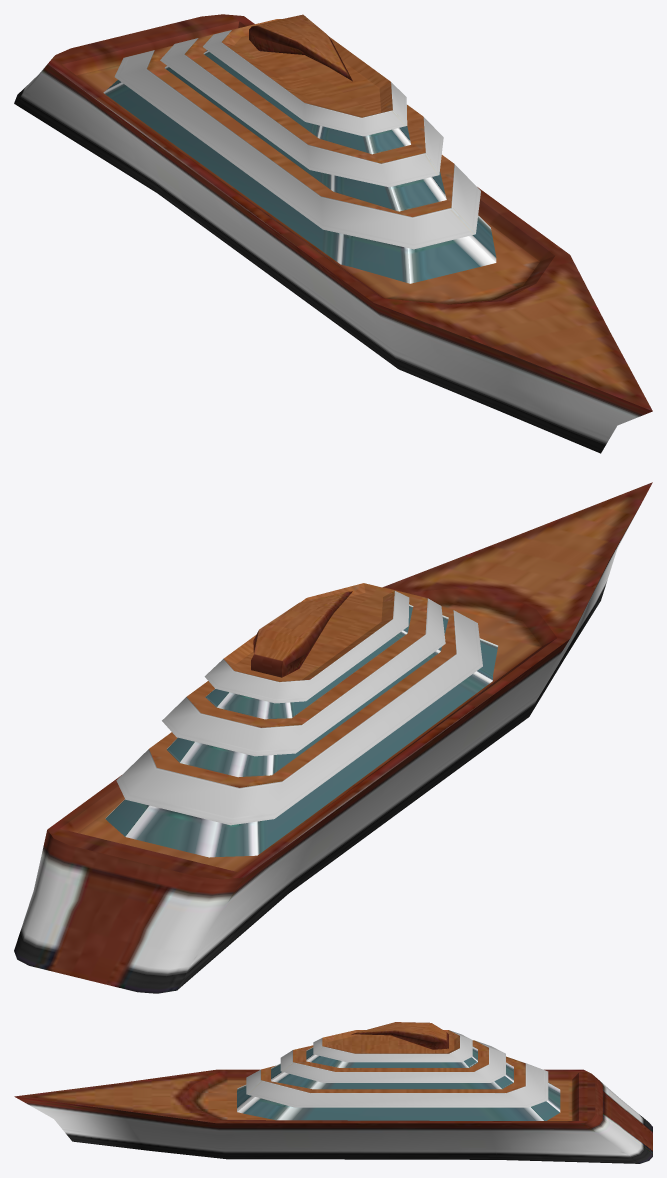
The picture shows the model from 3 angles, top to bottom: view 1: azimuth 30°, elevation 25°; view 2: azimuth 150°, elevation 25°; view 3: azimuth 270°, elevation 25°; orthographic projection. The views are drawn at different scales.
Visible parts, largest first — view 1: 633d2abd0d3b63a338157074; view 2: 633d2abd0d3b63a338157074; view 3: 633d2abd0d3b63a338157074.
Part boxes in pixels (box(x1,y1,x2,y2)): 633d2abd0d3b63a338157074: box(14, 14, 652, 453); 633d2abd0d3b63a338157074: box(14, 482, 652, 993); 633d2abd0d3b63a338157074: box(14, 1022, 652, 1163).
Size of the model in its own units: 7.71 by 7.69 by 38.65.
Materials: 1 (1 with a texture image).
